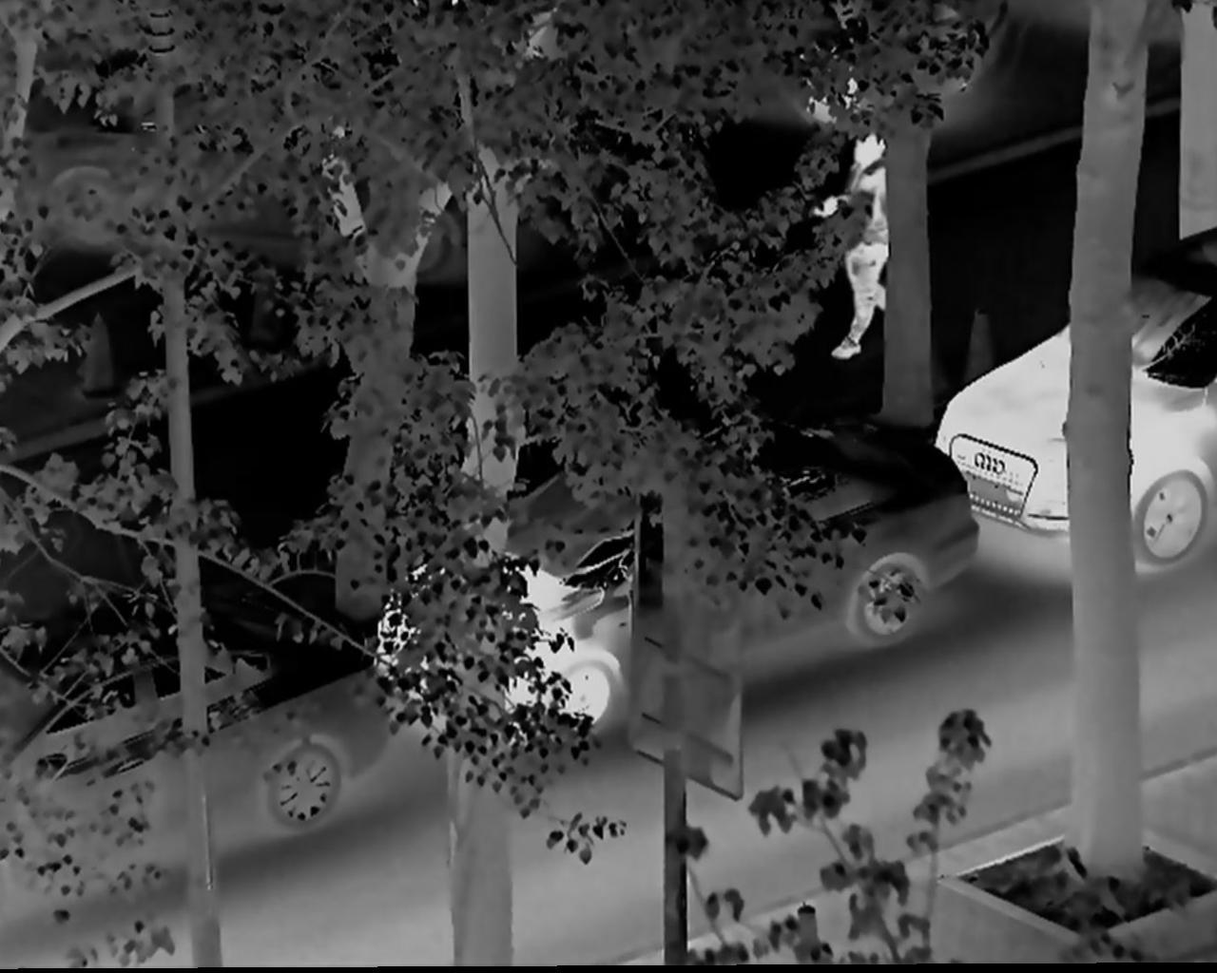person: (811, 118, 902, 365)
